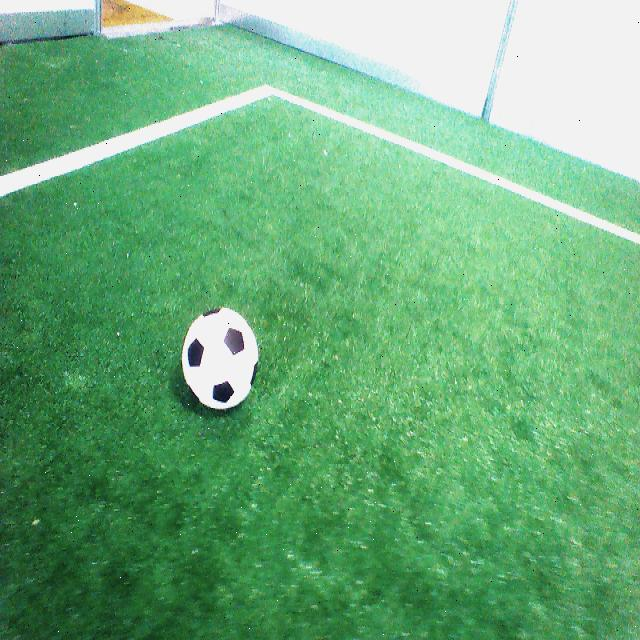ball: (180, 309, 259, 411)
